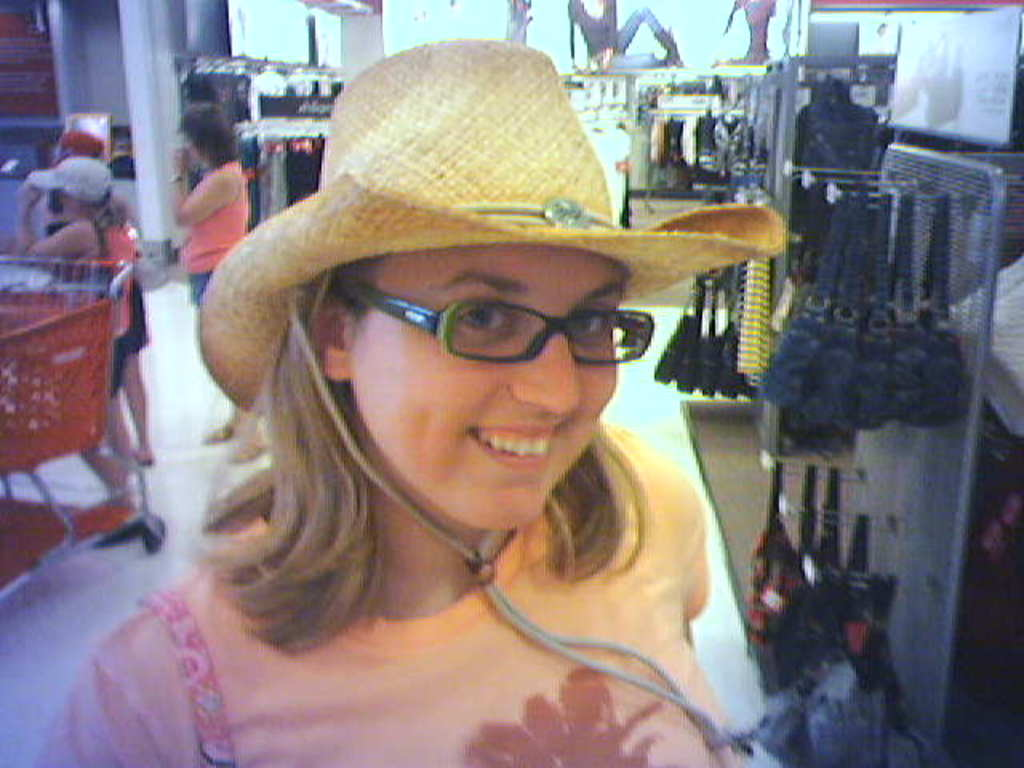Human-face: (350, 240, 624, 531)
